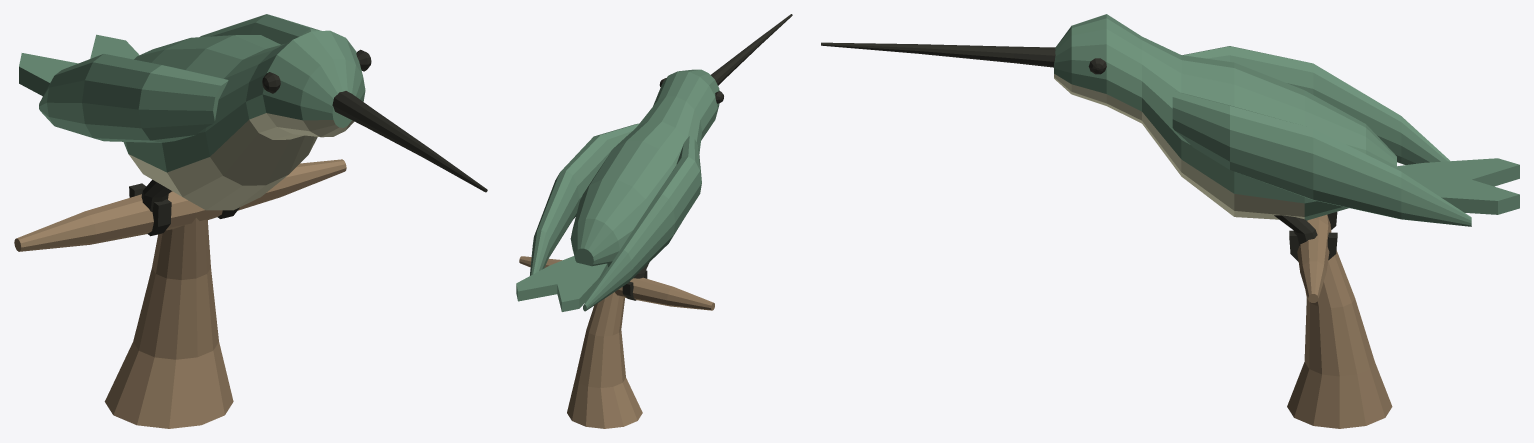
The picture shows the model from 3 angles, left to right: view 1: azimuth 30°, elevation 25°; view 2: azimuth 150°, elevation 25°; view 3: azimuth 270°, elevation 25°; orthographic projection. The views are drawn at different scales.
Visible parts, largest first — view 1: WholeCompactForwardInclinedTorsoAndSmallHead, WholeLowForkedPerchingTwigStem, WholeLongNarrowSweptFoldedWing0, WholeTransverseNaturalPerchingTwig, WholeLongFineStraightNeedleBill, WholeShortForkedTail, WholeLongNarrowSweptFoldedWing1, WholeCurvedPerchingToeMass0, WholeShortBentPerchingLeg0; view 2: WholeCompactForwardInclinedTorsoAndSmallHead, WholeLowForkedPerchingTwigStem, WholeLongNarrowSweptFoldedWing0, WholeLongNarrowSweptFoldedWing1, WholeShortForkedTail, WholeTransverseNaturalPerchingTwig, WholeLongFineStraightNeedleBill; view 3: WholeCompactForwardInclinedTorsoAndSmallHead, WholeLongNarrowSweptFoldedWing1, WholeLowForkedPerchingTwigStem, WholeLongNarrowSweptFoldedWing0, WholeShortForkedTail, WholeLongFineStraightNeedleBill, WholeTransverseNaturalPerchingTwig.
Part boxes in pixels (x1=…): WholeCompactForwardInclinedTorsoAndSmallHead: x1=123, y1=30, x2=365, y2=210; WholeLowForkedPerchingTwigStem: x1=104, y1=218, x2=233, y2=428; WholeLongNarrowSweptFoldedWing0: x1=39, y1=54, x2=228, y2=142; WholeTransverseNaturalPerchingTwig: x1=14, y1=159, x2=346, y2=251; WholeLongFineStraightNeedleBill: x1=332, y1=91, x2=487, y2=192; WholeShortForkedTail: x1=19, y1=34, x2=139, y2=96; WholeLongNarrowSweptFoldedWing1: x1=199, y1=14, x2=321, y2=44; WholeCurvedPerchingToeMass0: x1=129, y1=183, x2=171, y2=236; WholeShortBentPerchingLeg0: x1=141, y1=179, x2=171, y2=211; WholeCompactForwardInclinedTorsoAndSmallHead: x1=570, y1=69, x2=719, y2=267; WholeLowForkedPerchingTwigStem: x1=567, y1=292, x2=642, y2=428; WholeLongNarrowSweptFoldedWing0: x1=583, y1=135, x2=701, y2=311; WholeLongNarrowSweptFoldedWing1: x1=530, y1=123, x2=639, y2=275; WholeShortForkedTail: x1=516, y1=256, x2=608, y2=311; WholeTransverseNaturalPerchingTwig: x1=519, y1=256, x2=714, y2=310; WholeLongFineStraightNeedleBill: x1=711, y1=14, x2=792, y2=85; WholeCompactForwardInclinedTorsoAndSmallHead: x1=1054, y1=14, x2=1396, y2=220; WholeLongNarrowSweptFoldedWing1: x1=1172, y1=91, x2=1471, y2=226; WholeLowForkedPerchingTwigStem: x1=1287, y1=250, x2=1392, y2=428; WholeLongNarrowSweptFoldedWing0: x1=1182, y1=46, x2=1450, y2=164; WholeShortForkedTail: x1=1397, y1=158, x2=1519, y2=214; WholeLongFineStraightNeedleBill: x1=821, y1=42, x2=1055, y2=67; WholeTransverseNaturalPerchingTwig: x1=1297, y1=214, x2=1331, y2=302.
Size of the model in its own units: 0.7 by 0.975 by 1.59.
